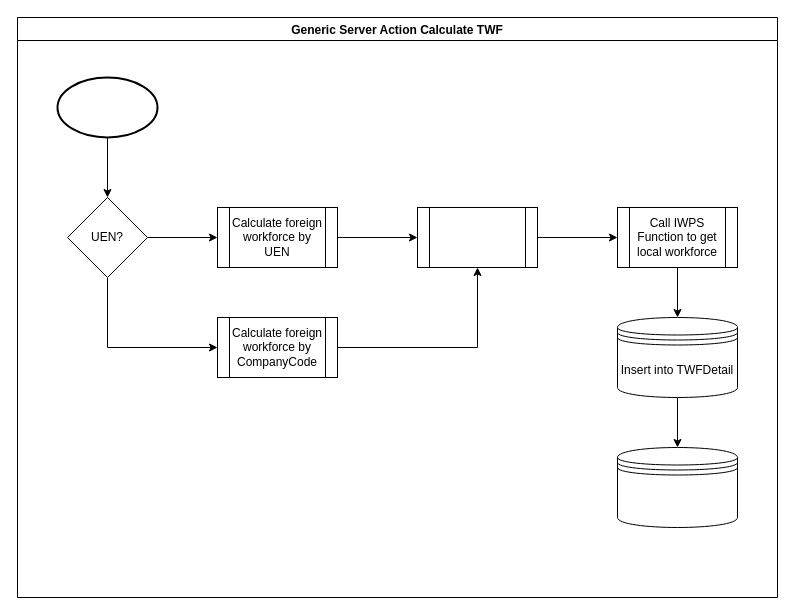
The diagram is 795 pixels wide and 615 high, and some of its shapes have lost their labels. Here are the shapes that lost their labels. From the top down, the centre of each, then its label:
At pixel 107 107: "Start".
At pixel 477 237: "Get CPFNo by UEN or CompanyCode".
At pixel 677 487: "Insert into TWFSummary".
